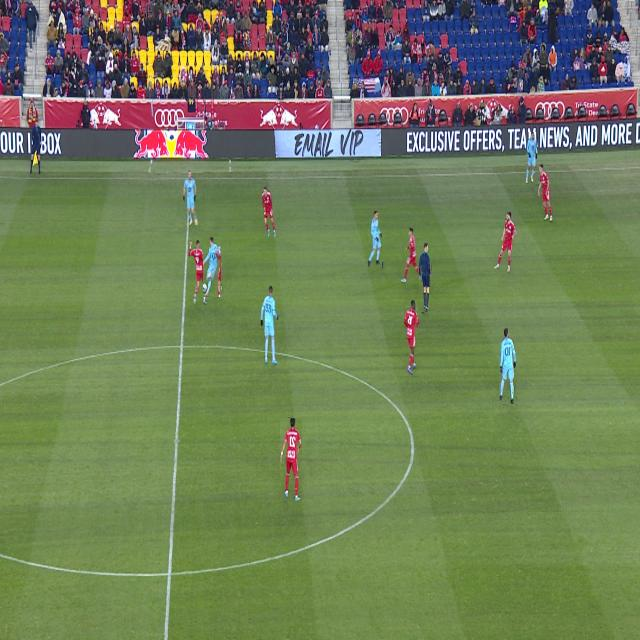football: (217, 284, 222, 293)
player: (280, 418, 302, 501), (494, 212, 517, 272), (188, 240, 209, 304), (261, 286, 278, 364), (500, 328, 516, 404), (203, 237, 221, 297), (401, 228, 420, 283), (405, 300, 418, 374), (538, 164, 553, 221), (183, 171, 197, 226), (369, 212, 382, 267), (262, 187, 276, 237), (526, 133, 538, 184)
referee: (419, 243, 431, 312)
